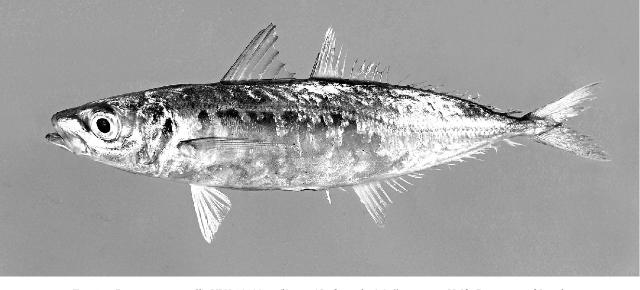Mulut: (33, 106, 71, 160)
Sirip Anal: (354, 135, 522, 229)
Sirip Dada: (177, 125, 291, 165)
Sirip Ekor: (522, 64, 620, 186)
Sirip Perut: (183, 180, 239, 246)
Sirip Punggung: (216, 13, 410, 91)
